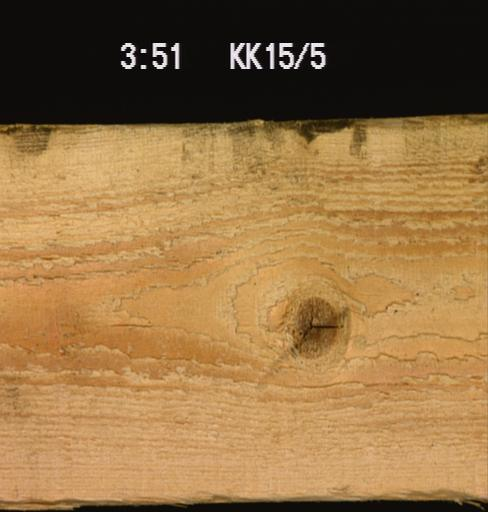sound_knot: (287, 292, 339, 360)
split: (104, 315, 161, 333)
wave: (278, 475, 486, 500), (0, 489, 258, 509)
